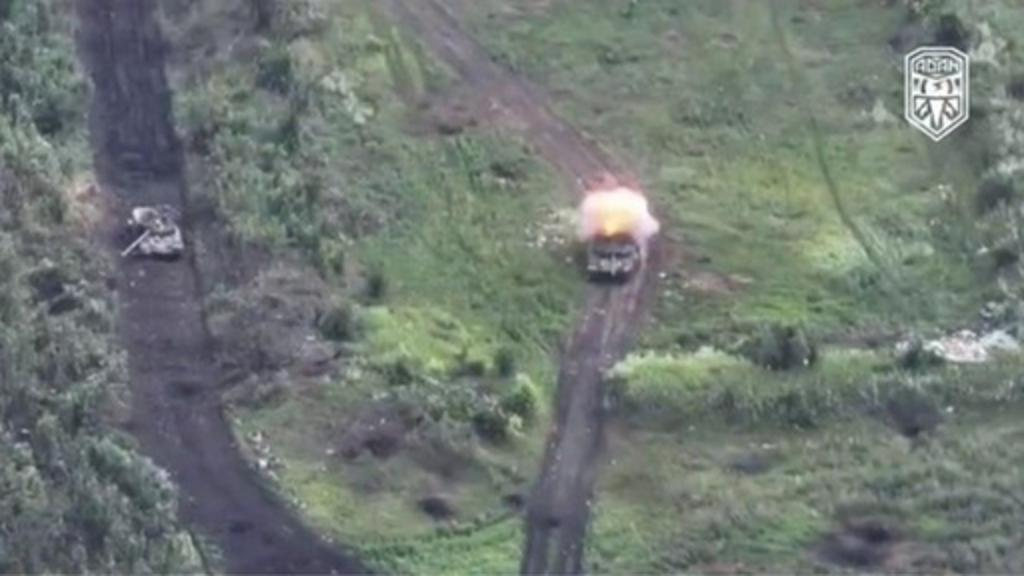TANK: (106, 198, 194, 264), (574, 222, 644, 282)
